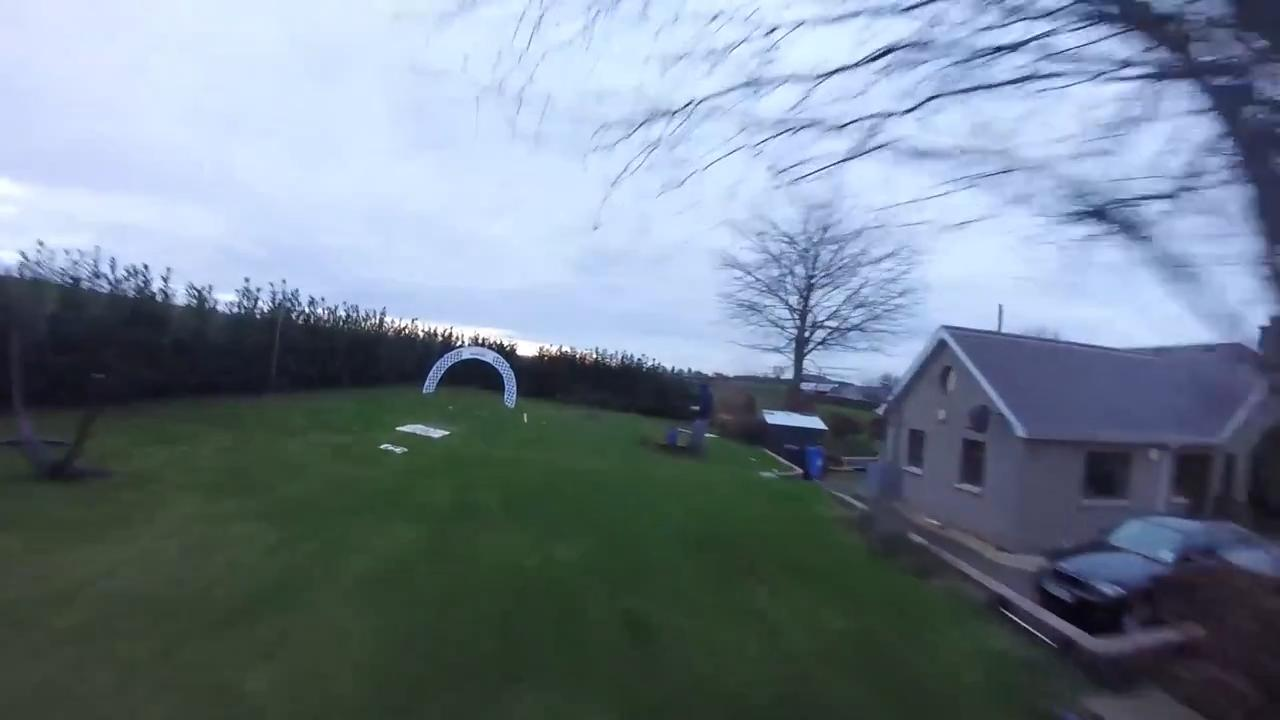gate: (422, 343, 518, 410)
